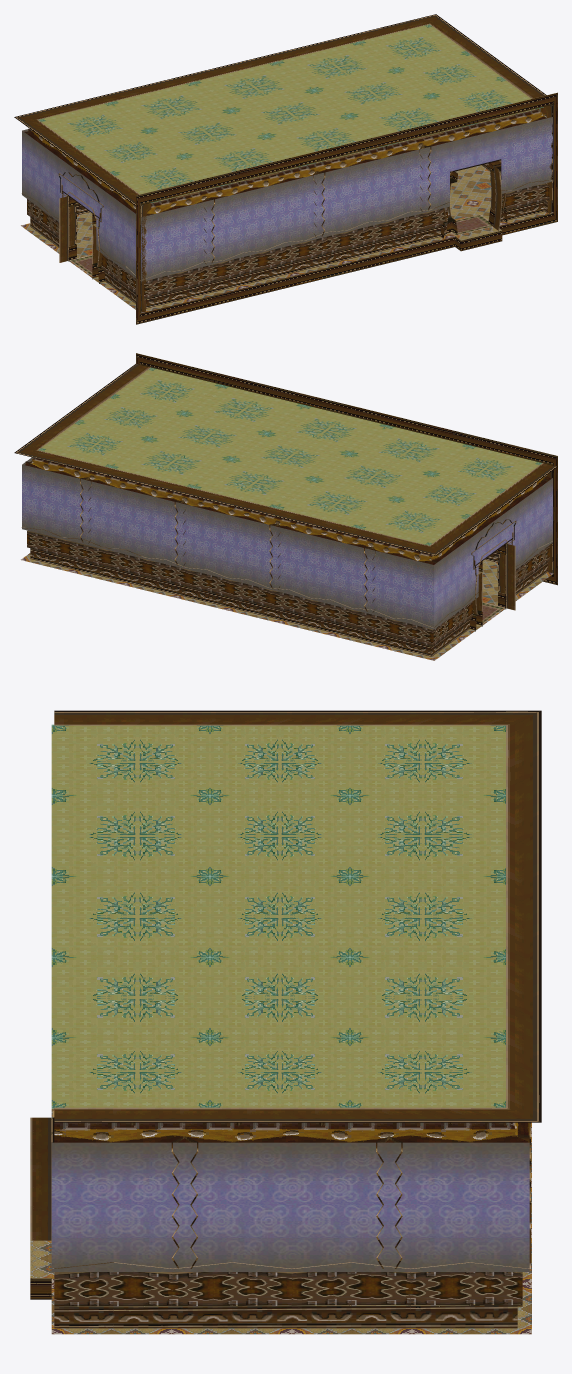
File: room_39.glb
3 renders of one model, top to bottom at view 1: azimuth 30°, elevation 25°; view 2: azimuth 150°, elevation 25°; view 3: azimuth 270°, elevation 25°, orthographic. The views are drawn at different scales.
Parts seen in each view (by area): view 1: room_39; view 2: room_39; view 3: room_39.
Part boxes in pixels (x1,y1,x2,y2): room_39: (14, 14, 557, 324); room_39: (14, 353, 557, 660); room_39: (30, 710, 541, 1334).
Size of the model in its own units: 2075 by 600 by 1075.
22 materials, 22 textured.
